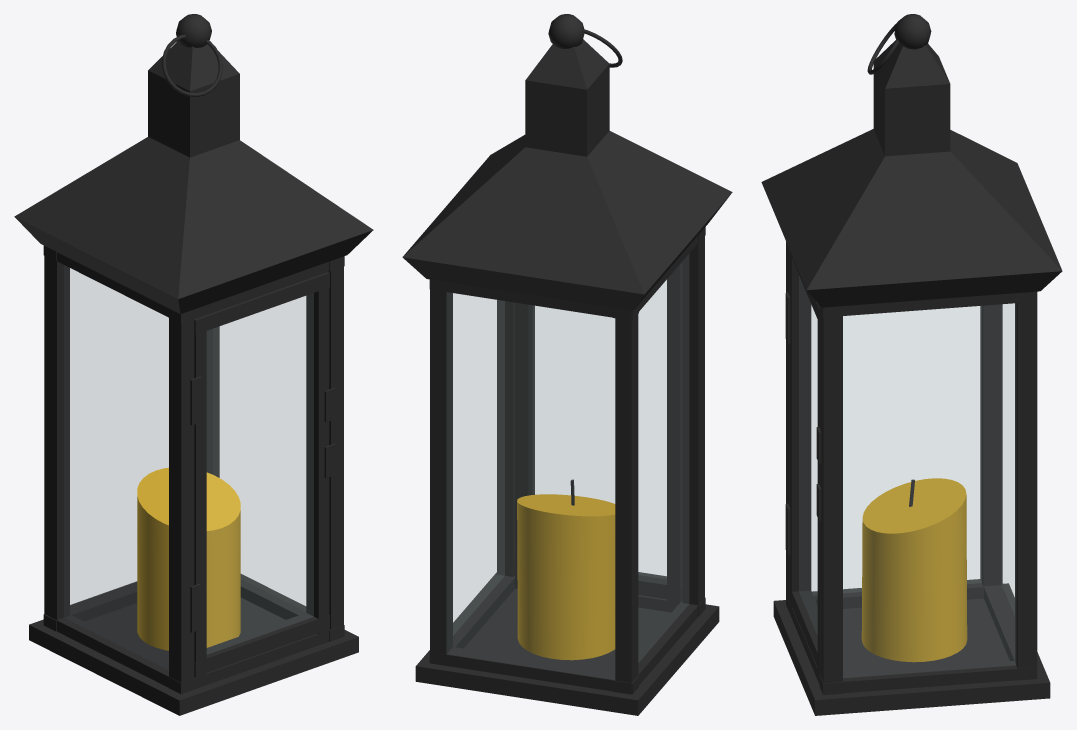
The model's file is Lantern.glb.
The picture shows the model from 3 angles, left to right: view 1: azimuth 30°, elevation 25°; view 2: azimuth 150°, elevation 25°; view 3: azimuth 270°, elevation 25°; orthographic projection.
Parts seen in each view (by area): view 1: Box029, Plane009, Plane006, Cylinder002, Box045, Box036, Box031, Box043, Box037, Box040, Box044, Box030 (+9 smaller); view 2: Plane008, Box029, Plane009, Cylinder002, Box045, Box036, Box032, Box031, Box040, Box037, Box043, Box033 (+7 smaller); view 3: Plane007, Box029, Cylinder002, Box045, Box032, Box037, Box040, Box036, Plane006, Box035, Box039, Box033 (+6 smaller).
Part boxes in pixels (<box>): Box029: <box>14,41,373,314</box>; Plane009: <box>64,266,168,669</box>; Plane006: <box>207,293,313,653</box>; Cylinder002: <box>137,467,240,650</box>; Box045: <box>29,597,358,715</box>; Box036: <box>44,252,69,630</box>; Box031: <box>169,318,194,682</box>; Box043: <box>306,277,329,642</box>; Box037: <box>328,266,343,629</box>; Box040: <box>194,320,206,686</box>; Box044: <box>194,613,329,676</box>; Box030: <box>57,614,195,693</box>; Plane008: <box>447,293,614,679</box>; Box029: <box>402,39,732,310</box>; Plane009: <box>639,255,688,660</box>; Cylinder002: <box>517,494,615,660</box>; Box045: <box>415,572,719,715</box>; Box036: <box>615,314,638,682</box>; Box032: <box>430,289,452,654</box>; Box031: <box>682,236,704,605</box>; Box040: <box>667,262,682,609</box>; Box037: <box>497,300,514,576</box>; Box043: <box>515,302,534,577</box>; Box033: <box>429,647,638,694</box>; Plane007: <box>843,304,1015,677</box>; Box029: <box>761,40,1062,307</box>; Cylinder002: <box>861,478,967,662</box>; Box045: <box>773,583,1050,715</box>; Box032: <box>1015,302,1037,668</box>; Box037: <box>820,312,842,683</box>; Box040: <box>789,249,811,610</box>; Box036: <box>980,304,1002,586</box>; Plane006: <box>799,277,816,632</box>; Box035: <box>819,660,1017,694</box>; Box039: <box>819,293,1017,317</box>; Box033: <box>984,585,1037,680</box>.
Bounding box in the file's own units: 567669 × 1335226 × 567669.
